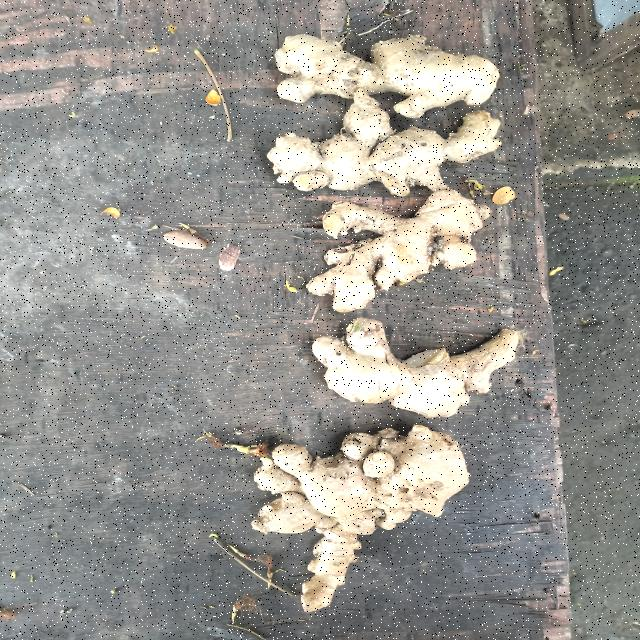ginger: (235, 418, 473, 613), (260, 18, 530, 119), (313, 193, 497, 326), (260, 114, 526, 205), (290, 324, 531, 421)
